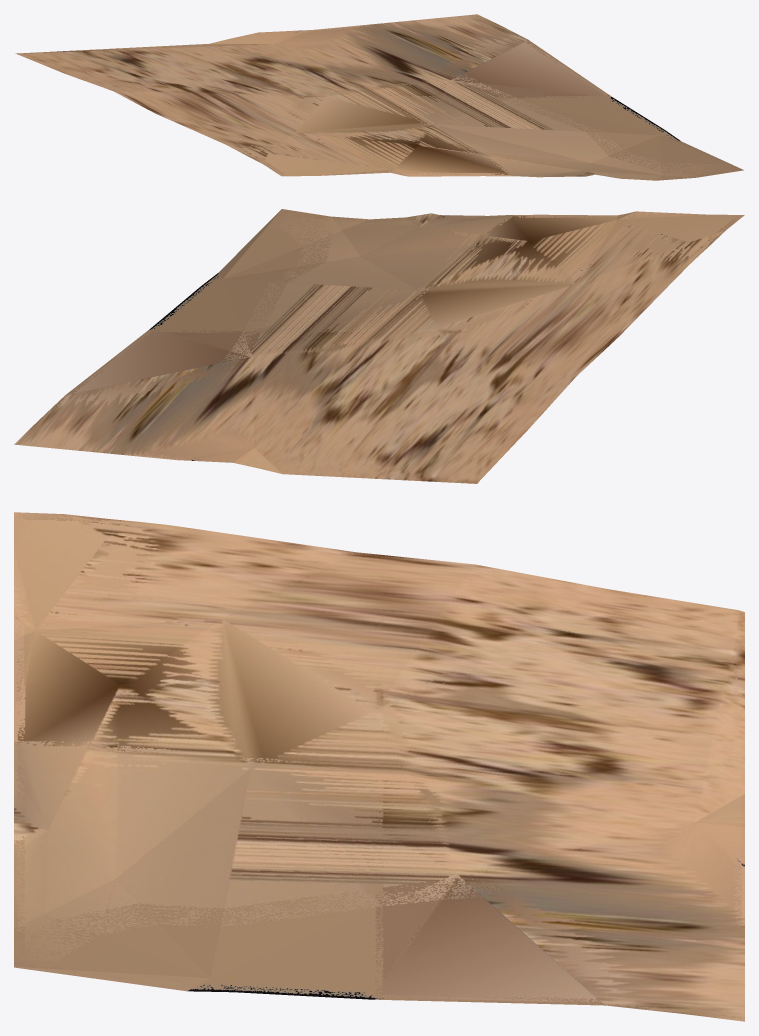
3 renders of one model, top to bottom at view 1: azimuth 30°, elevation 25°; view 2: azimuth 150°, elevation 25°; view 3: azimuth 270°, elevation 25°, orthographic. The views are drawn at different scales.
Bounding box in the file's own units: 2.09 × 0.6324 × 2.09.
Materials: 3 (3 with a texture image).
